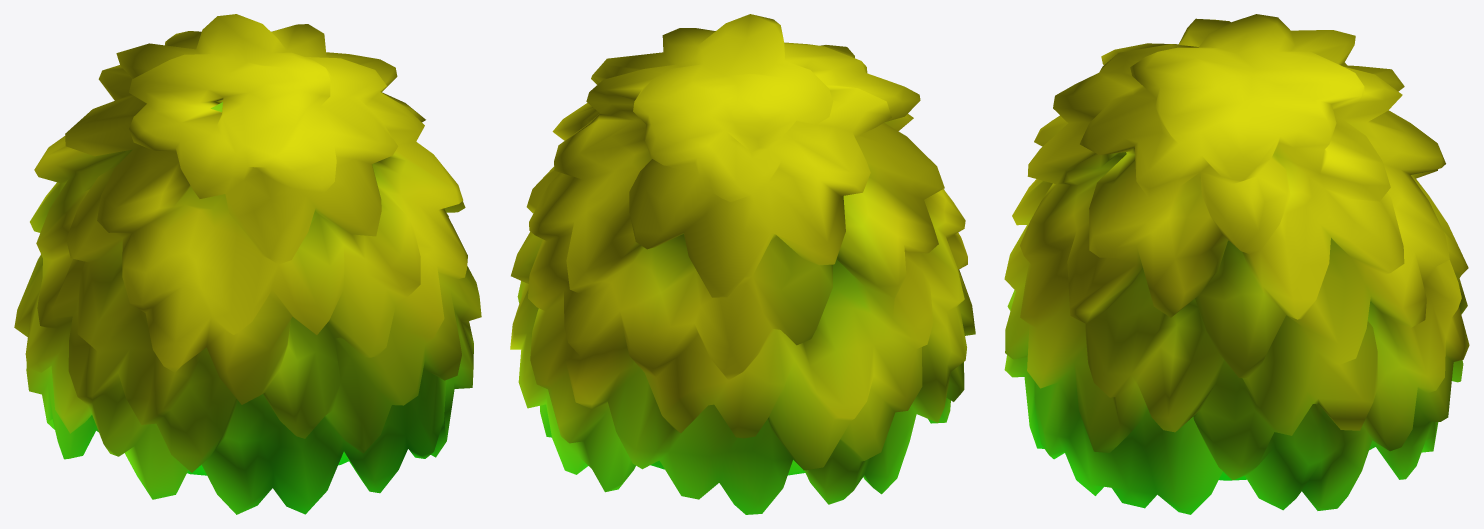
File: M_Bush.fbx
3 views of the same model, side by side, from view 1: azimuth 30°, elevation 25°; view 2: azimuth 150°, elevation 25°; view 3: azimuth 270°, elevation 25° (orthographic). The views are drawn at different scales.
Parts seen in each view (by area): view 1: M_Bush_LOD0; view 2: M_Bush_LOD0; view 3: M_Bush_LOD0.
Part boxes in pixels (box(x1,y1,x2,y2)): M_Bush_LOD0: box(14, 14, 481, 514); M_Bush_LOD0: box(510, 14, 975, 514); M_Bush_LOD0: box(1004, 14, 1469, 514).
Size of what is drawn, in the model's own units: 0.9126 by 0.847 by 0.912.
